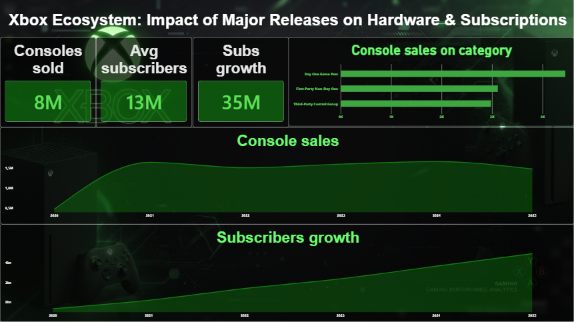

The page's visual inventory and layout, read from the dashboard file:
{"tool":"powerbi","page":{"name":"Страница 1","canvas":[1920,1080],"ordinal":0},"visuals":[{"type":"textbox","box":[0,0,1919.1,126.8],"z":0},{"type":"areaChart","title":"Console sales","fields":{"Category":["dim_dates.Date.Изменение.Иерархия дат.Год","dim_dates.Date.Изменение.Иерархия дат.Квартал","dim_dates.Date.Изменение.Иерархия дат.Месяц","dim_dates.Date.Изменение.Иерархия дат.День"],"Y":["Sum(fact_console_sales.units_sold)"]},"box":[0,427.9,1919,322.5],"z":1000},{"type":"areaChart","title":"Subscribers growth","fields":{"Category":["dim_dates.Date.Изменение.Иерархия дат.Год","dim_dates.Date.Изменение.Иерархия дат.Квартал","dim_dates.Date.Изменение.Иерархия дат.Месяц","dim_dates.Date.Изменение.Иерархия дат.День"],"Y":["Sum(fact_subscriptions.active_subscribers)"]},"box":[0,750.3,1919,332.1],"z":2000},{"type":"cardVisual","title":"Consoles sold","fields":{"Data":["Sum(fact_console_sales.units_sold)"]},"box":[-0.7,126.7,320,300],"z":3000},{"type":"cardVisual","title":"Subs growth","fields":{"Data":["Sum(fact_subscriptions.new_subscriptions)"]},"box":[641.8,127.7,320,300],"z":4000},{"type":"cardVisual","title":"Avg subscribers","fields":{"Data":["Max(fact_subscriptions.active_subscribers)"]},"box":[319.3,127.7,320,300],"z":5000},{"type":"clusteredBarChart","title":"Console sales on category","fields":{"Category":["dim_games.category"],"Y":["dim_games.Sales by Game Category"]},"box":[961,127.7,958.1,296.1],"z":6000}]}

Visuals, with their boxes in screenshot pixels (x1, y1, x2, y2), scaled from the page's 1920x1080 canvas onto the 574x322 screenshot:
textbox: [x1=0, y1=0, x2=573, y2=38]
"Console sales" areaChart: [x1=0, y1=128, x2=573, y2=224]
"Subscribers growth" areaChart: [x1=0, y1=224, x2=573, y2=321]
"Consoles sold" cardVisual: [x1=0, y1=38, x2=95, y2=127]
"Subs growth" cardVisual: [x1=192, y1=38, x2=288, y2=128]
"Avg subscribers" cardVisual: [x1=95, y1=38, x2=191, y2=128]
"Console sales on category" clusteredBarChart: [x1=287, y1=38, x2=573, y2=126]
